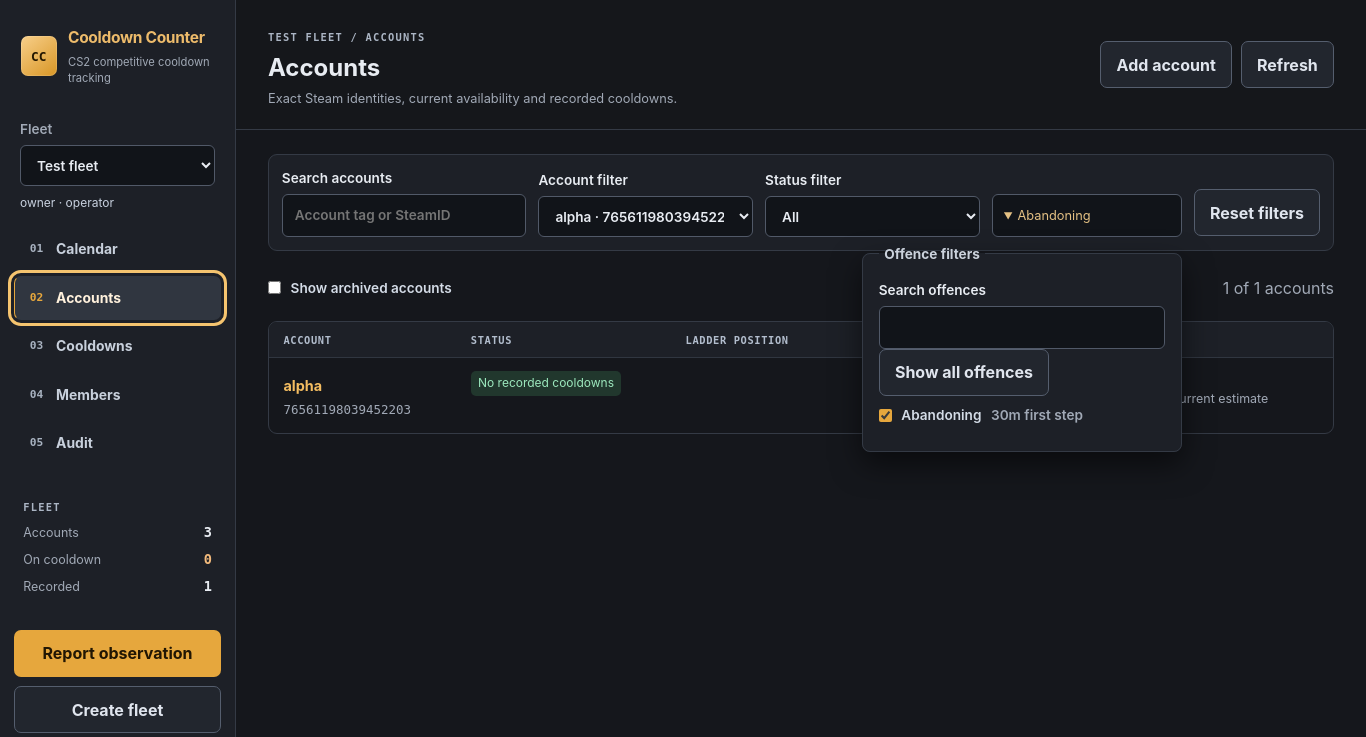
Scenario: [RQ-034 RQ-035 RQ-037 RQ-038 RQ-039 RQ-059 RQ-072 RQ-104 RQ-108] retains workspace filters across views and independent range reset
Earlier steps of the test are not shown.
Check: the checkbox labelled "Abandoning" is checked, box top-left (879, 409), bottom-right (892, 422)
Click the button "alpha".
click(303, 386)  # box top-left (283, 371), bottom-right (322, 401)
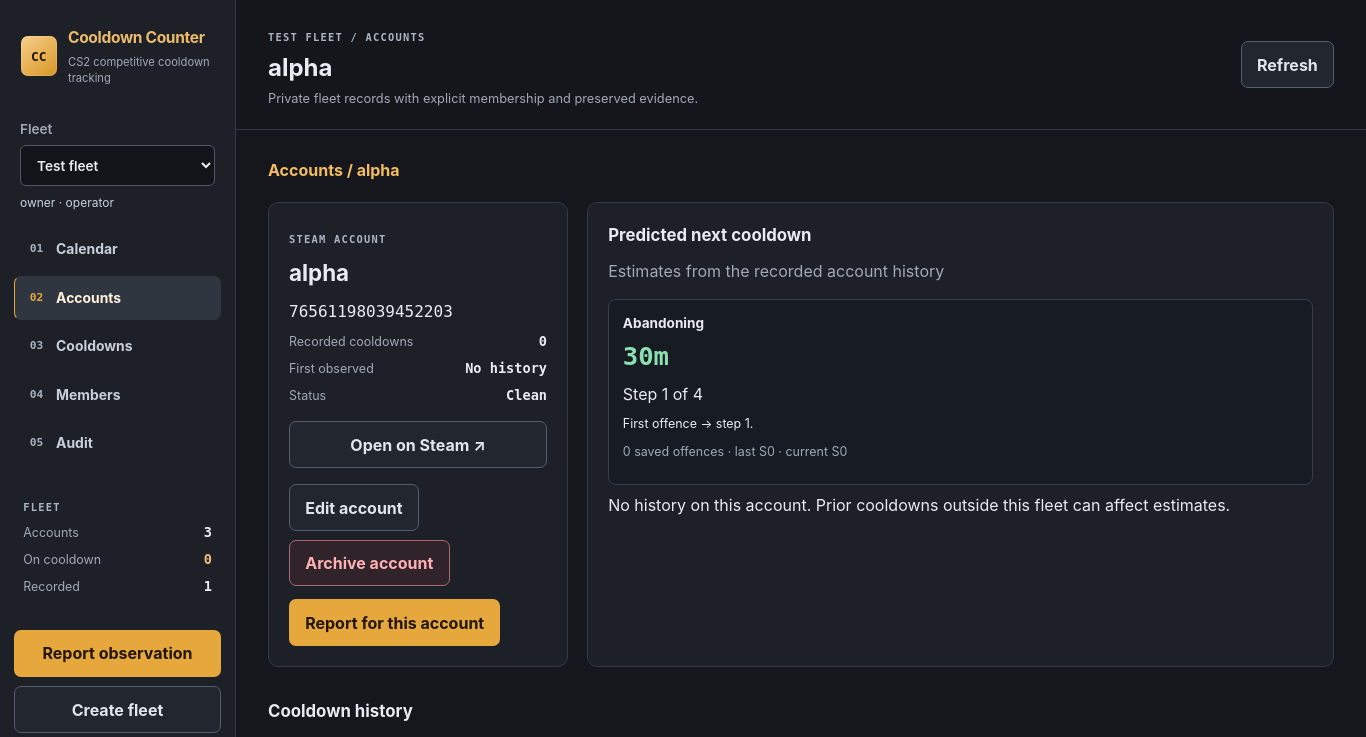
Check: the button "02 Accounts" is marked as current, box top-left (14, 276), bottom-right (221, 320)
Click the button "Accounts / alpha".
click(334, 170)  # box top-left (268, 154), bottom-right (400, 186)
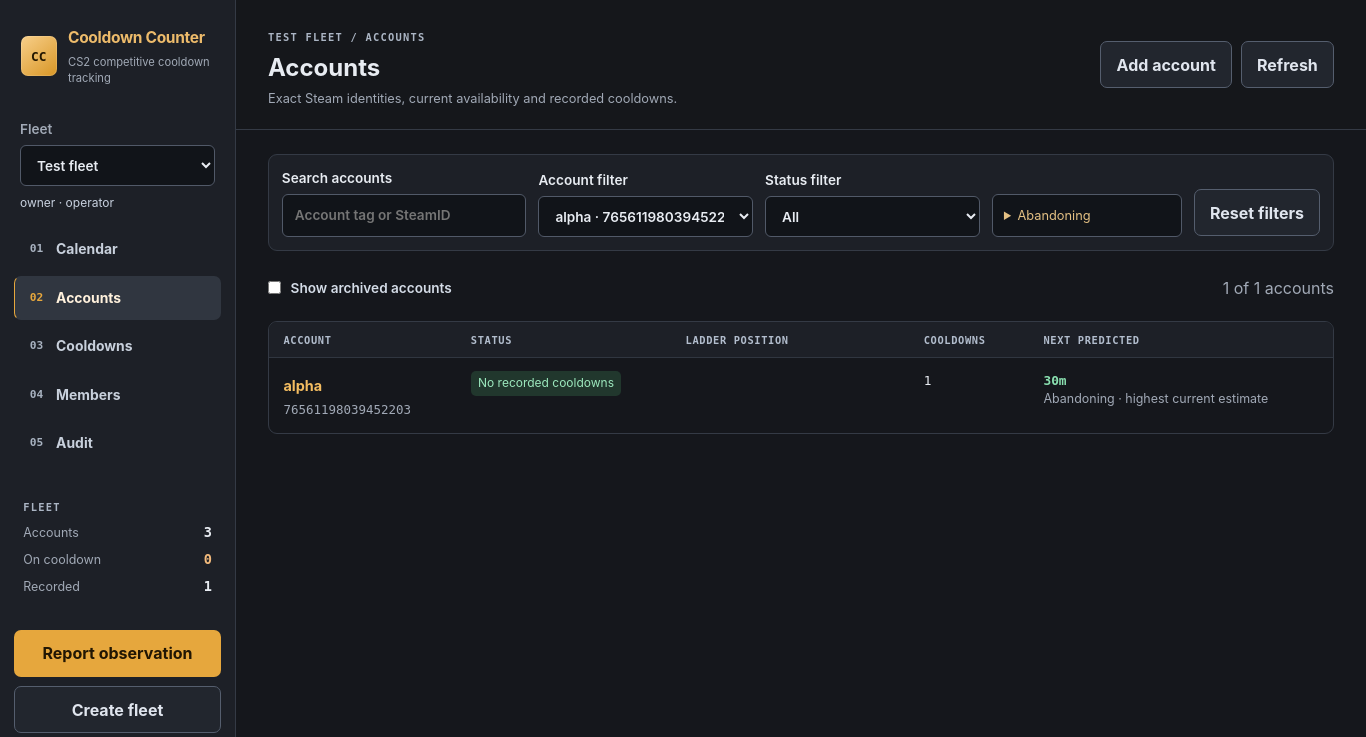
Check: the heading "Accounts" is shown, box top-left (268, 53), bottom-right (380, 82)
Click the button "01 Calendar".
click(118, 250)  # box top-left (14, 228), bottom-right (221, 272)
(page scrolled)
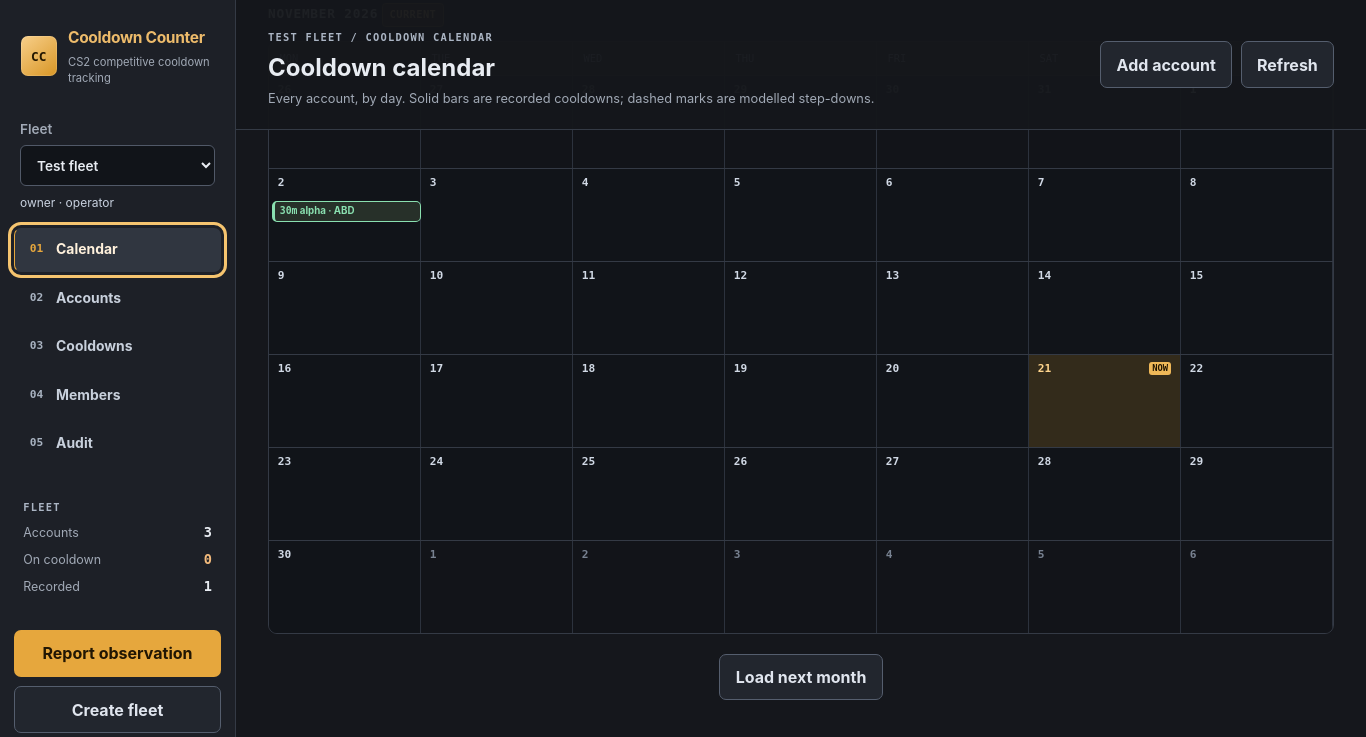
Click the button "Load next month".
click(801, 677)  # box top-left (719, 654), bottom-right (882, 700)
(page scrolled)
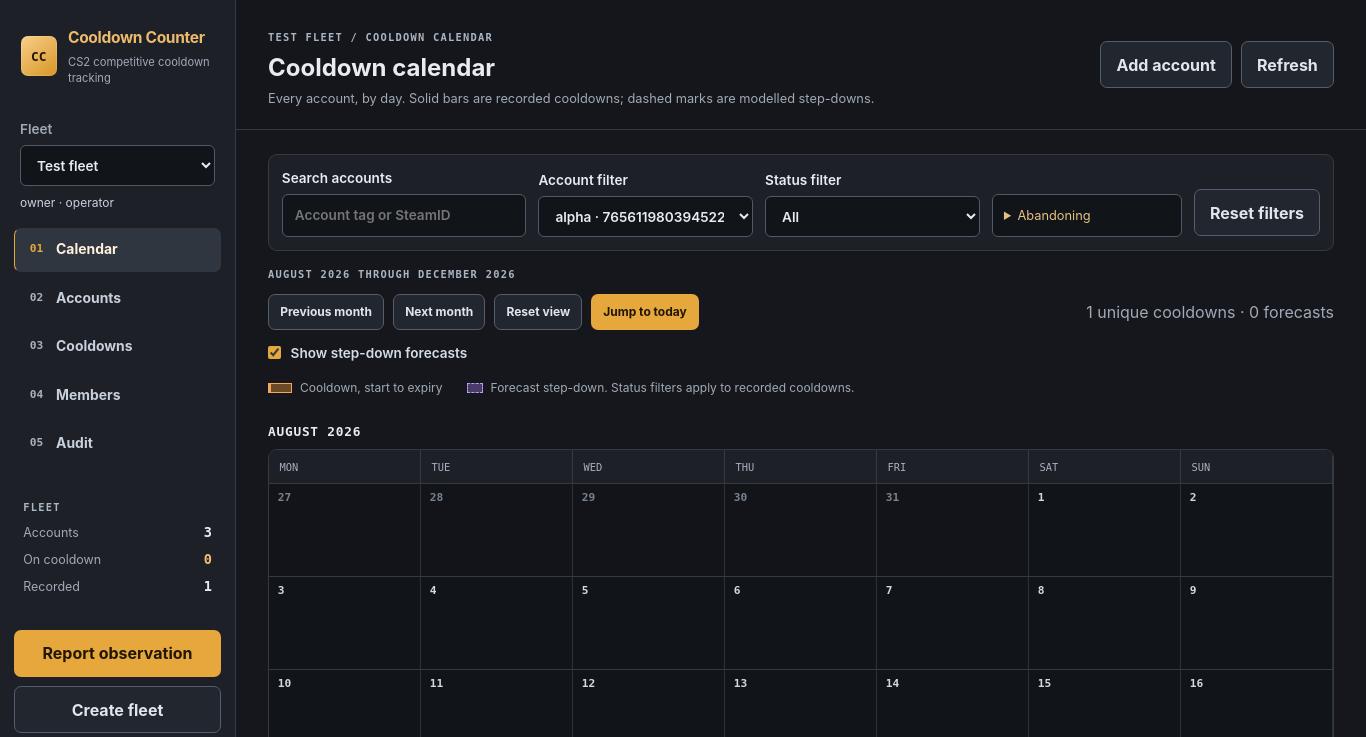
Click the button "Reset view".
click(538, 312)  # box top-left (494, 294), bottom-right (582, 330)
(page scrolled)
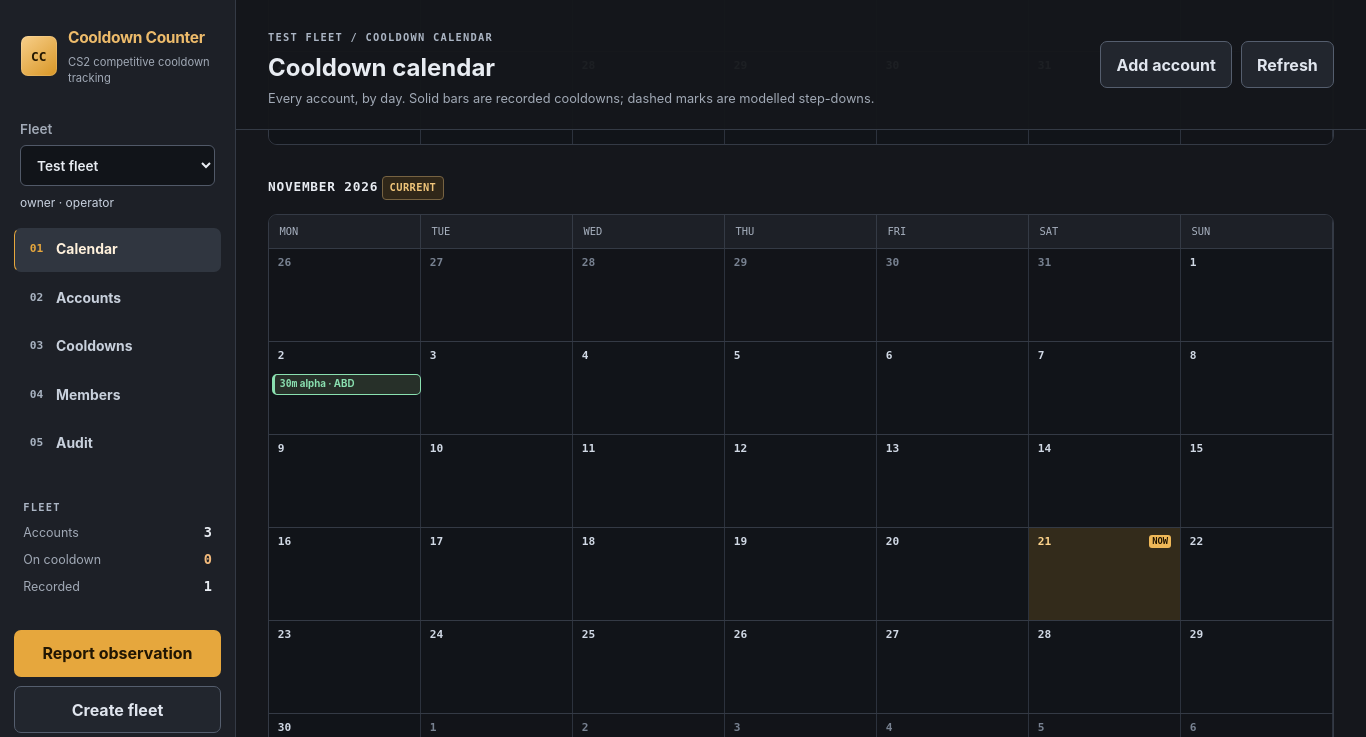
Click the button with aria-label "alpha Abandoning,".
click(346, 384)  # box top-left (272, 374), bottom-right (421, 395)
(page scrolled)
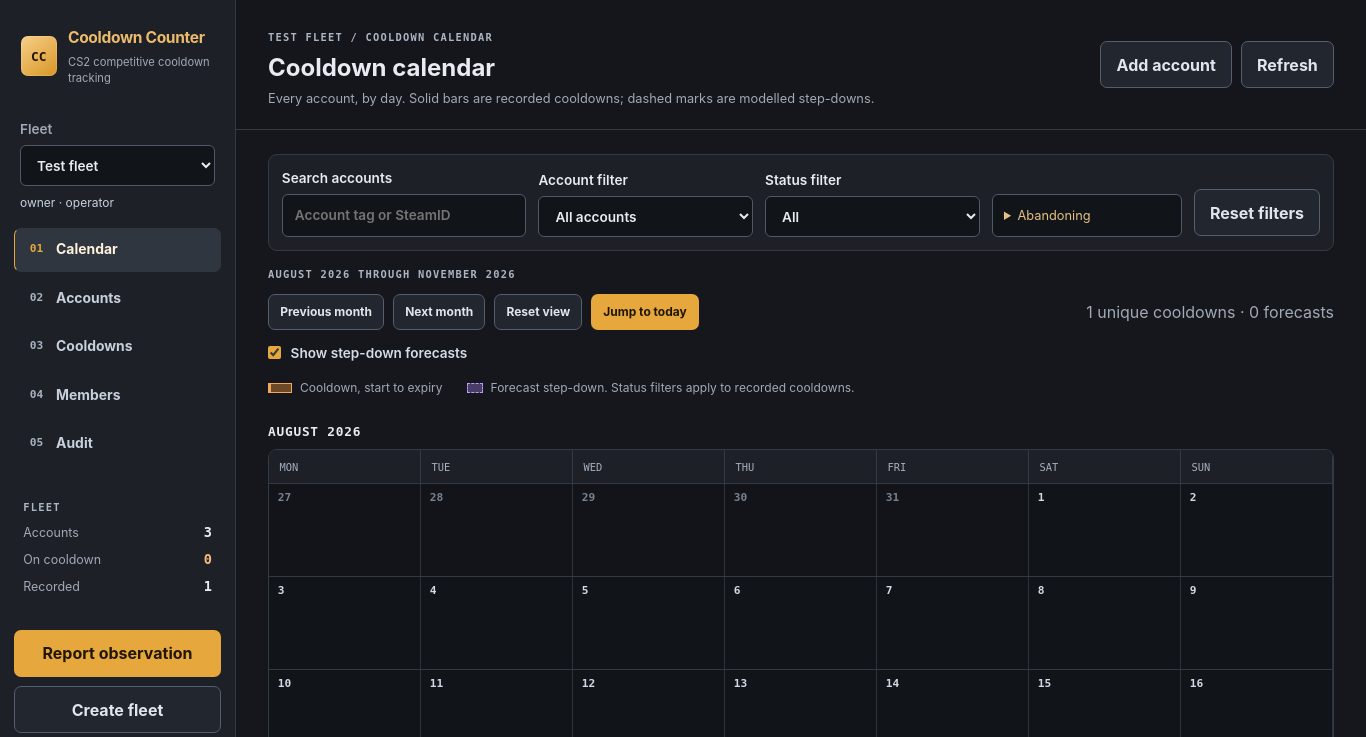
Check: the dropdown labelled "Account filter" shows "All accounts", box top-left (538, 196), bottom-right (753, 237)
